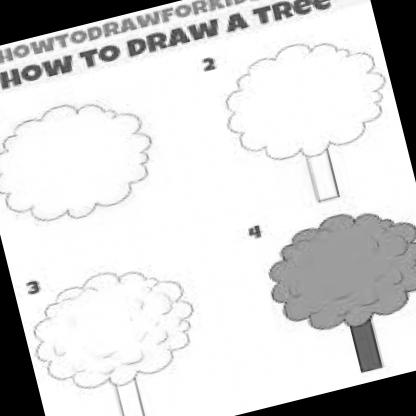crown_cloud: (256, 194, 416, 342)
trunk_straight: (343, 320, 390, 370)
